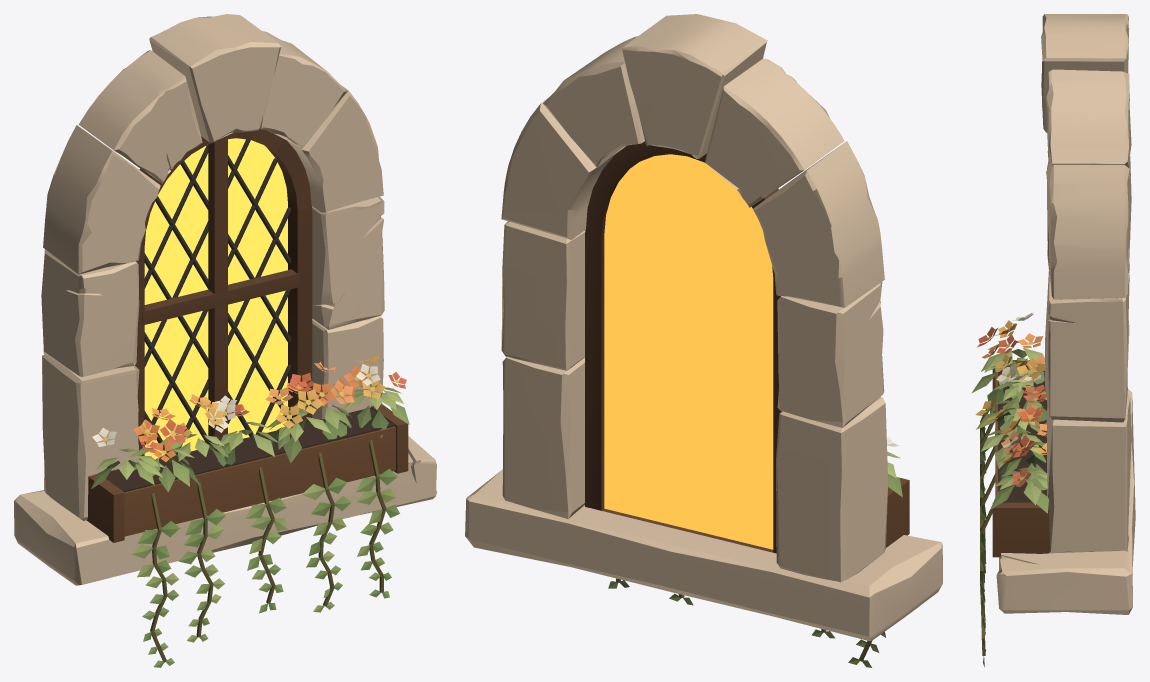
File: window.glb
The picture shows the model from 3 angles, left to right: view 1: azimuth 30°, elevation 25°; view 2: azimuth 150°, elevation 25°; view 3: azimuth 270°, elevation 25°; orthographic projection. The views are drawn at different scales.
Parts seen in each view (by area): view 1: Window Stone, Flower box, Window Frame, Window Panes; view 2: Window Stone, Window Panes, Window Frame, Flower box; view 3: Window Stone, Flower box.
Part boxes in pixels (x1,y1,x2,y2): Window Stone: (14, 14, 436, 585); Flower box: (86, 356, 409, 667); Window Frame: (135, 128, 312, 459); Window Panes: (144, 138, 287, 459); Window Stone: (465, 14, 942, 641); Window Panes: (604, 154, 773, 549); Window Frame: (585, 141, 781, 553); Flower box: (608, 436, 909, 667); Window Stone: (995, 14, 1135, 614); Flower box: (972, 313, 1050, 666).
Bounding box in the file's own units: 1.44 × 2.15 × 0.5414.
